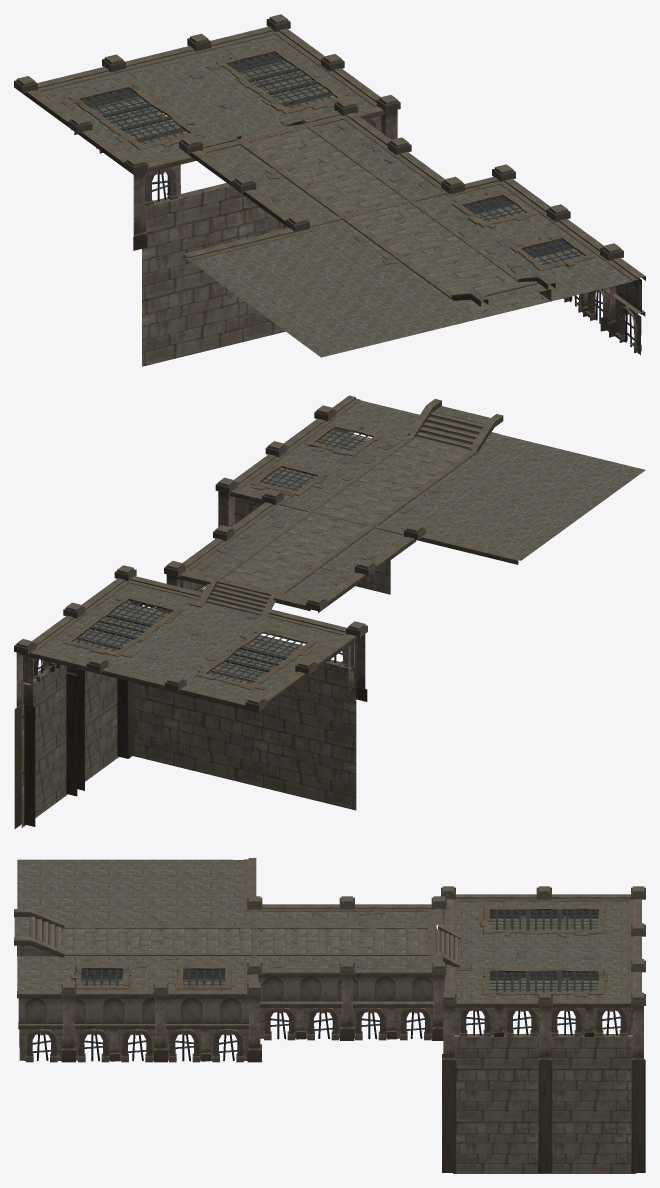
File: common_haigang_guanka02.FBX
The picture shows the model from 3 angles, top to bottom: view 1: azimuth 30°, elevation 25°; view 2: azimuth 150°, elevation 25°; view 3: azimuth 270°, elevation 25°; orthographic projection. The views are drawn at different scales.
Visible parts, largest first — view 1: common_haigang_guanka02; view 2: common_haigang_guanka02; view 3: common_haigang_guanka02.
Boxes of the visible parts, x1,y1,x2,y2 form: common_haigang_guanka02: (14,14,645,366); common_haigang_guanka02: (14,395,645,828); common_haigang_guanka02: (14,858,645,1173).
Bounding box in the file's own units: 54.39 × 105 × 35.95.
